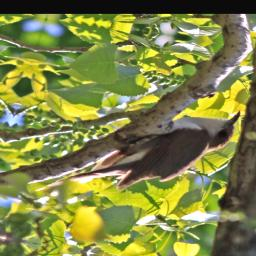Cuckoo: (48, 83, 244, 210)
